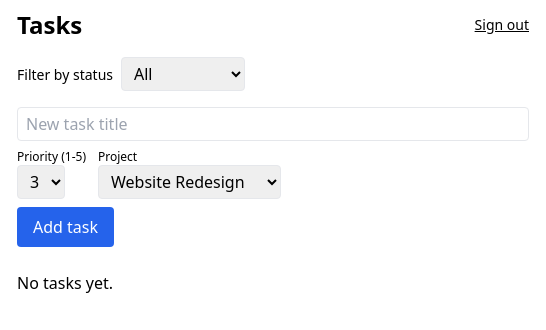
it: creating a task › appends the new task to the list on a 201, without a reload
Check: the text "No tasks yet." is shown, box [17,272,113,294]
Type "New task" into the field with placeholder "New task title" at coordinates (273, 124), box [17,107,529,141]
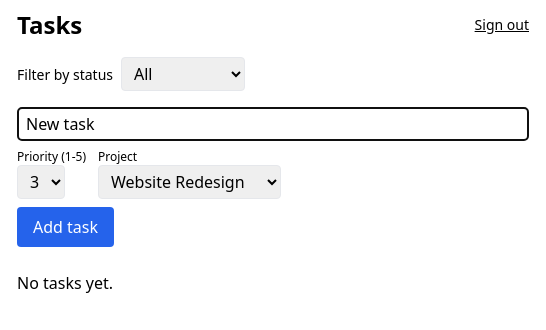
Click the button "Add task" at coordinates (66, 227), box [17,207,114,247]
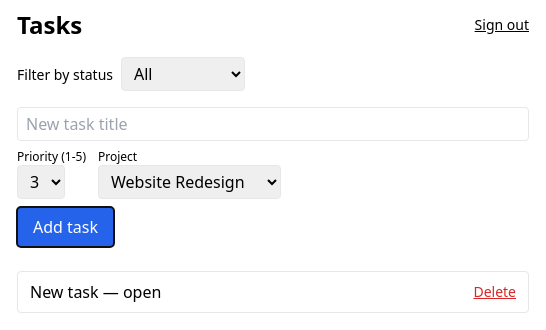
Check: the text "New task — open" is shown, box [30,280,161,304]
